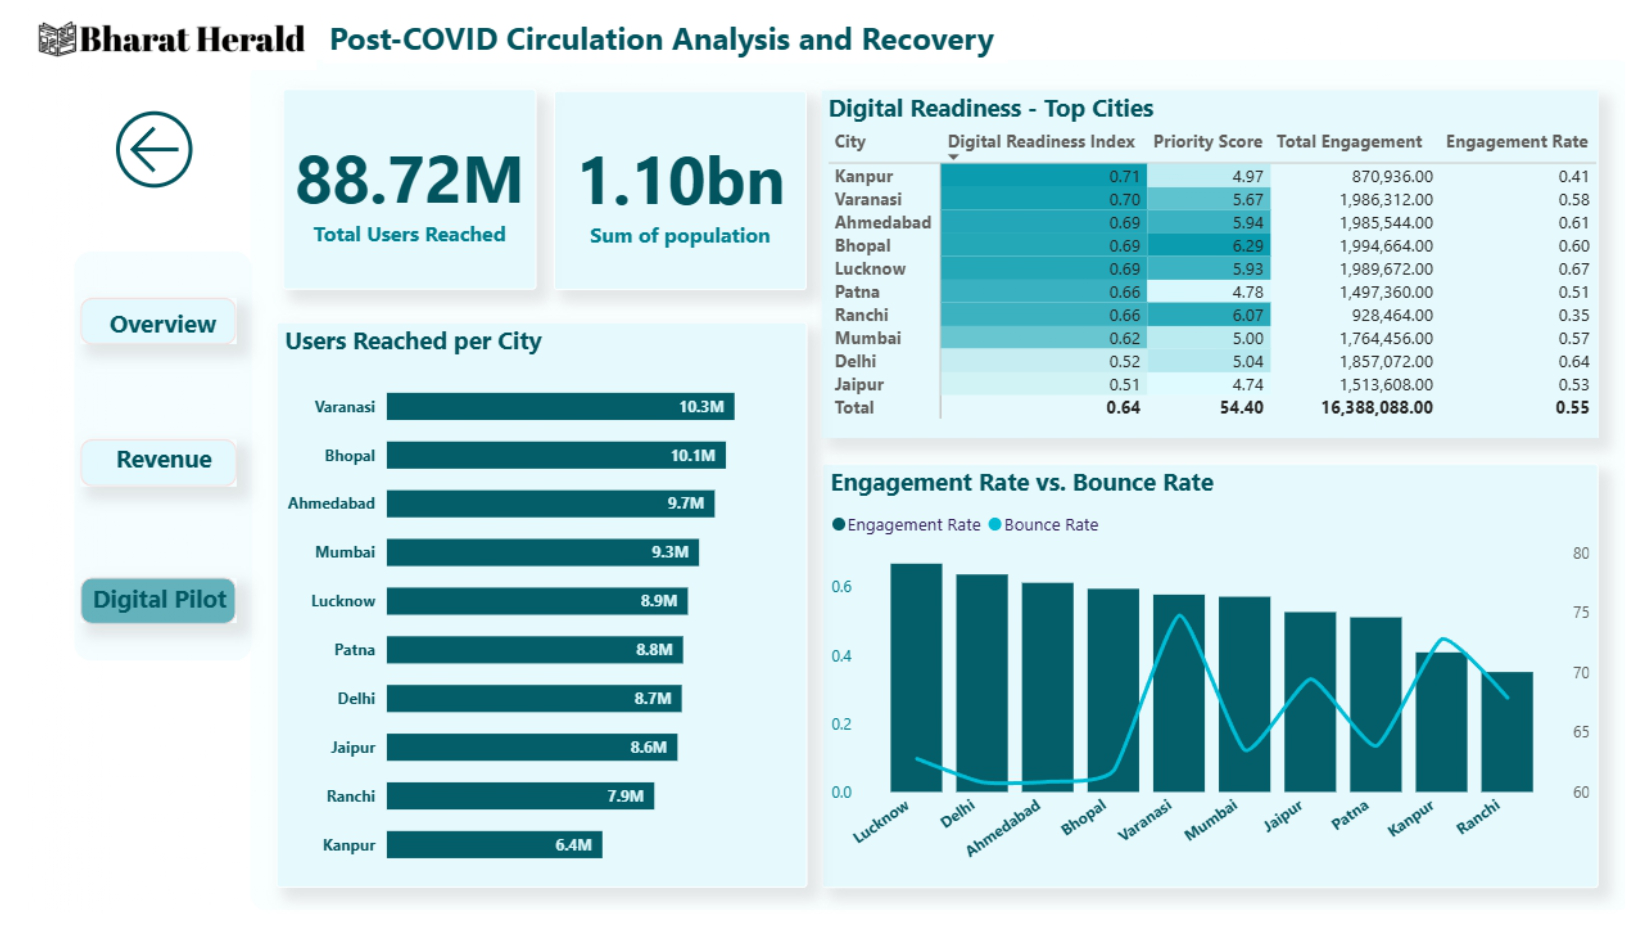

Layout of this report page (visuals, bound fields, positions):
{"tool":"powerbi","page":{"name":"Digital Pilot Metrics","canvas":[1280,720],"ordinal":2},"visuals":[{"type":"group","id":"g1","title":"Group 1","box":[41.2,50,1214.6,661.7],"z":0},{"type":"shape","box":[41.2,198.9,138.5,318.6],"z":0,"group":"g1"},{"type":"shape","box":[179.2,50,1076.7,661.7],"z":1000,"group":"g1"},{"type":"lineStackedColumnComboChart","title":"Engagement Rate vs. Bounce Rate","fields":{"Category":["bharat_herald vw_digital_readiness.city_name"],"Y":["Avg(bharat_herald vw_digital_readiness.engagement_rate)"],"Y2":["Avg(bharat_herald vw_digital_readiness.bounce_rate)1"]},"box":[623.3,363.3,605,330],"z":1000},{"type":"card","fields":{"Values":["Sum(bharat_herald vw_digital_readiness.total_users_reached)"]},"box":[204.3,72.7,197.4,155.8],"z":2000},{"type":"clusteredBarChart","title":"Users Reached per City","fields":{"Category":["bharat_herald vw_digital_readiness.city_name"],"Y":["Sum(bharat_herald vw_digital_readiness.total_users_reached)"]},"box":[198.3,253.3,413.3,440],"z":3000},{"type":"card","fields":{"Values":["Sum(bharat_herald vw_digital_readiness.population)"]},"box":[415,73.3,196.7,155],"z":4000},{"type":"pivotTable","title":"Digital Readiness - Top Cities","fields":{"Rows":["bharat_herald vw_digital_readiness.city_name"],"Values":["Avg(bharat_herald vw_digital_relaunch_prioritization.digital_readiness_index)","Sum(bharat_herald vw_digital_relaunch_prioritization.priority_score)","Sum(bharat_herald vw_digital_relaunch_prioritization.total_engagement)","Avg(bharat_herald vw_digital_readiness.engagement_rate)"]},"box":[623.3,73.3,605,270],"z":5000},{"type":"shape","box":[46.8,452,121.2,36.4],"z":6000},{"type":"shape","box":[46.8,235.5,121.2,36.4],"z":7000},{"type":"textbox","box":[55.4,237.2,110.8,36.4],"z":8000},{"type":"shape","box":[46.7,345,121.7,36.7],"z":9000},{"type":"actionButton","box":[62.3,239,105.6,31.2],"z":10000},{"type":"textbox","box":[63.8,346.2,90,35],"z":11000},{"type":"actionButton","box":[57.1,346.3,105.6,31.2],"z":12000},{"type":"textbox","box":[46.7,451.7,123.3,36.7],"z":13000},{"type":"image","box":[0,1.7,235,61.7],"z":14000},{"type":"actionButton","box":[61.7,456.7,95,25],"z":15000},{"type":"actionButton","box":[66.7,81.7,75,76.7],"z":16000},{"type":"textbox","box":[235,11.2,567.5,42.5],"z":17000}]}

Visuals, with their boxes in screenshot pixels (x1, y1, x2, y2), scaled from the page's 1280x720 canvas onto the 1650x932 screenshot:
"Group 1" group: 53,65,1619,921
shape: 53,257,232,670
shape: 231,65,1619,921
"Engagement Rate vs. Bounce Rate" lineStackedColumnComboChart: 803,470,1583,897
card - Sum(bharat_herald vw_digital_readiness.total_users_reached): 263,94,518,296
"Users Reached per City" clusteredBarChart: 256,328,788,897
card - Sum(bharat_herald vw_digital_readiness.population): 535,95,789,296
"Digital Readiness - Top Cities" pivotTable: 803,95,1583,444
shape: 60,585,217,632
shape: 60,305,217,352
textbox: 71,307,214,354
shape: 60,447,217,494
actionButton: 80,309,216,350
textbox: 82,448,198,493
actionButton: 74,448,210,489
textbox: 60,585,219,632
image: 0,2,303,82
actionButton: 80,591,202,624
actionButton: 86,106,183,205
textbox: 303,14,1034,70
